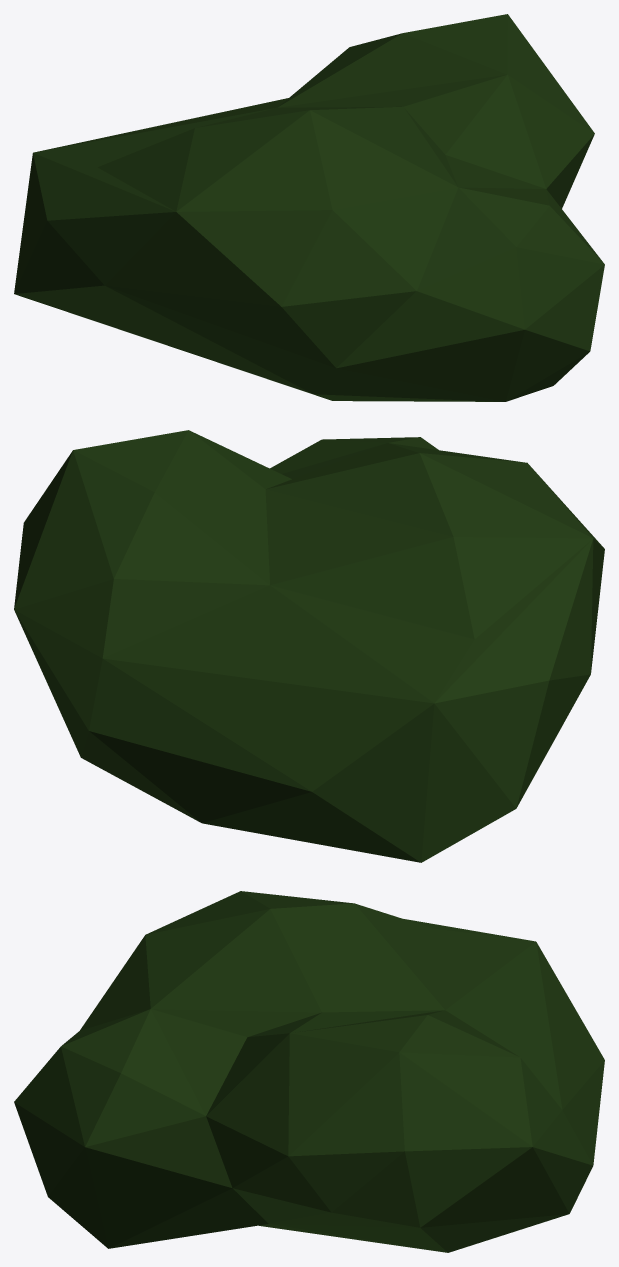
Rendered from SM_bush_05.fbx.
3 renders of one model, top to bottom at view 1: azimuth 30°, elevation 25°; view 2: azimuth 150°, elevation 25°; view 3: azimuth 270°, elevation 25°, orthographic. The views are drawn at different scales.
Parts seen in each view (by area): view 1: Object124; view 2: Object124; view 3: Object124.
Boxes of the visible parts, x1=… form: Object124: x1=14, y1=14, x2=604, y2=401; Object124: x1=14, y1=430, x2=604, y2=862; Object124: x1=14, y1=891, x2=604, y2=1252.
Size of the model in its own units: 128 by 69.7 by 130.
